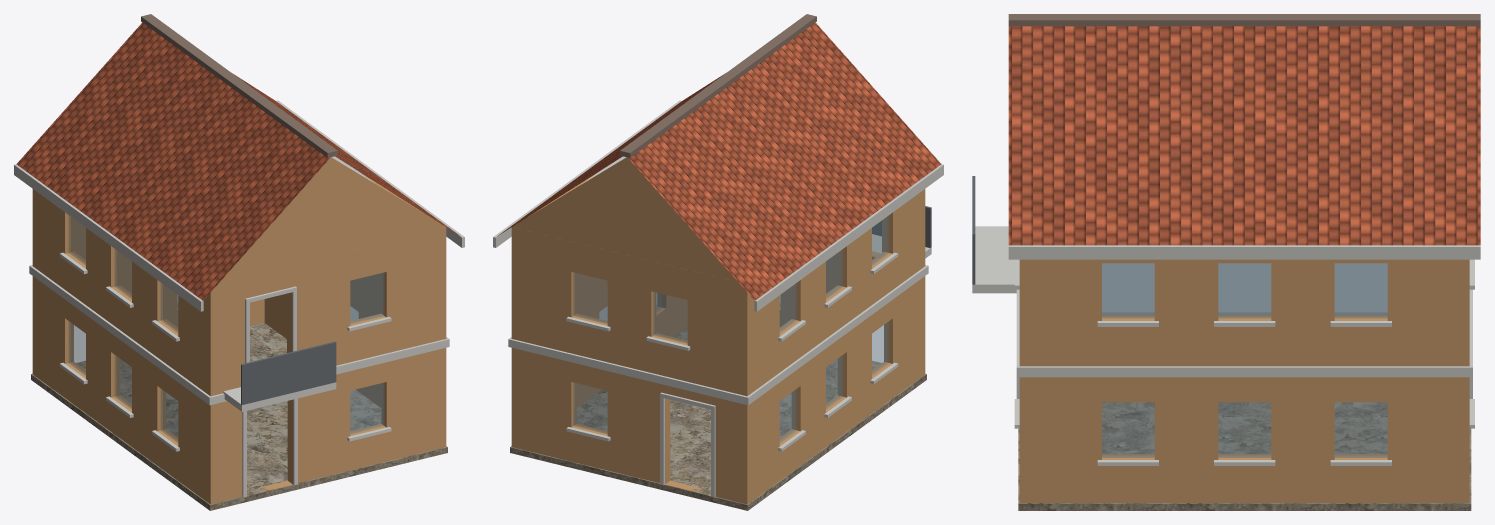
The model's file is cove-house-orange.coast-v2.lod1.glb.
The picture shows the model from 3 angles, left to right: view 1: azimuth 30°, elevation 25°; view 2: azimuth 150°, elevation 25°; view 3: azimuth 270°, elevation 25°; orthographic projection. The views are drawn at different scales.
Parts seen in each view (by area): view 1: cove-house-orange; view 2: cove-house-orange; view 3: cove-house-orange.
Part boxes in pixels (box(x1,y1,x2,y2)): cove-house-orange: box(14, 14, 464, 510); cove-house-orange: box(493, 14, 943, 510); cove-house-orange: box(972, 14, 1480, 510).
Bounding box in the file's own units: 7.28 × 8.77 × 9.61.
Materials: 4 (2 with a texture image).
